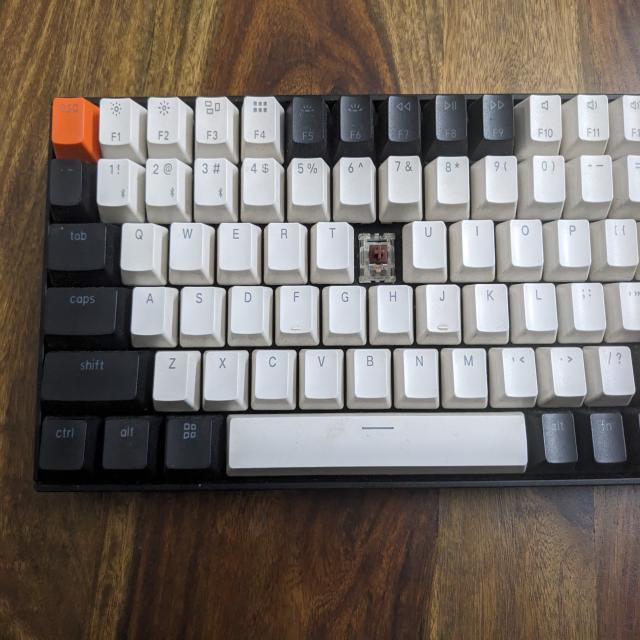C: (357, 232, 398, 280)
